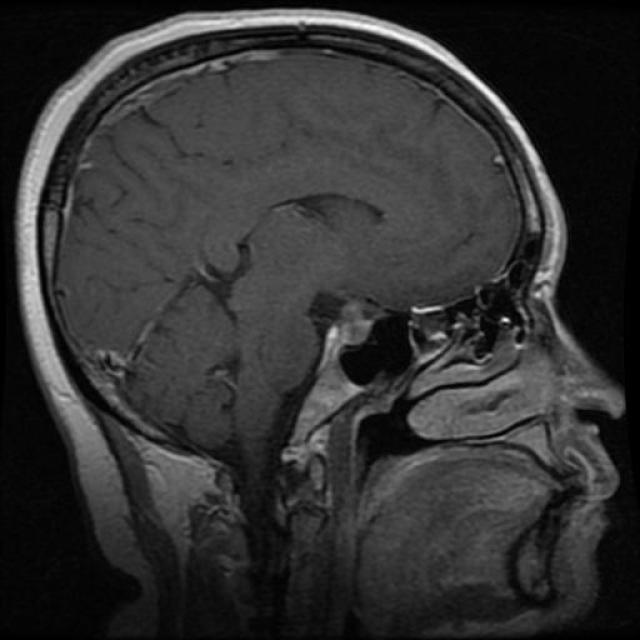pituitary: (279, 286, 382, 429)
